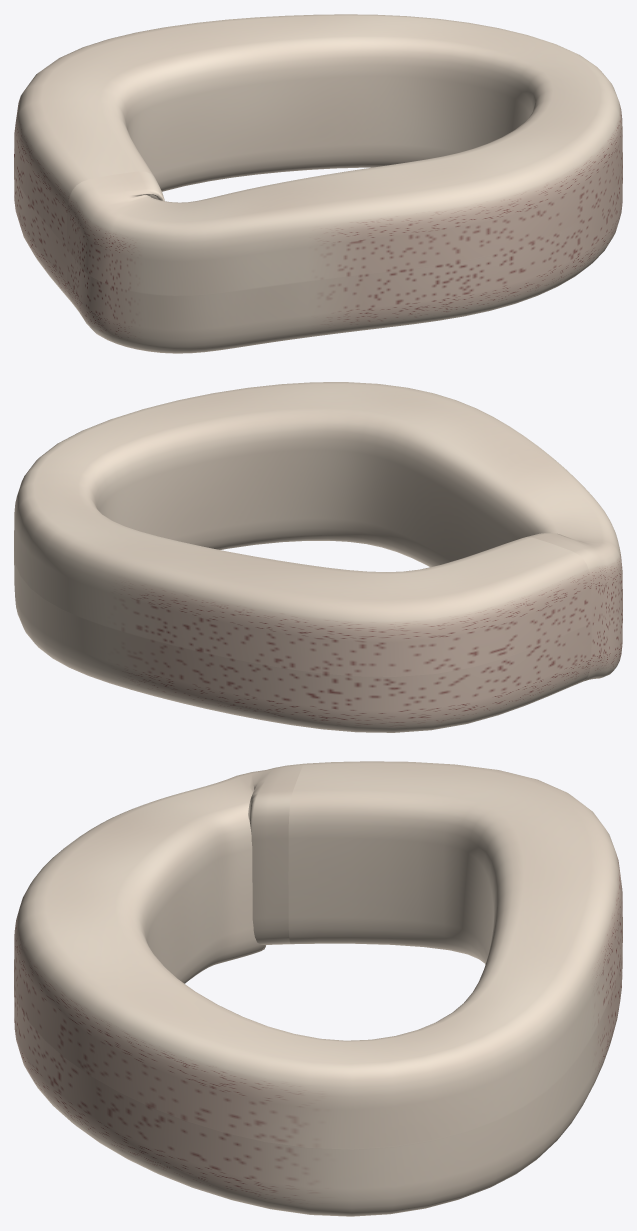
Rendered from squid.glb.
3 views of the same model, one above another, from view 1: azimuth 30°, elevation 25°; view 2: azimuth 150°, elevation 25°; view 3: azimuth 270°, elevation 25° (orthographic). The views are drawn at different scales.
Parts seen in each view (by area): view 1: squid; view 2: squid; view 3: squid.
Part boxes in pixels (x1,y1,x2,y2): squid: [14, 14, 622, 353]; squid: [14, 382, 622, 732]; squid: [14, 761, 622, 1216].
Size of the model in its own units: 1.01 by 0.28 by 0.848.
Materials: 1 (1 with a texture image).
